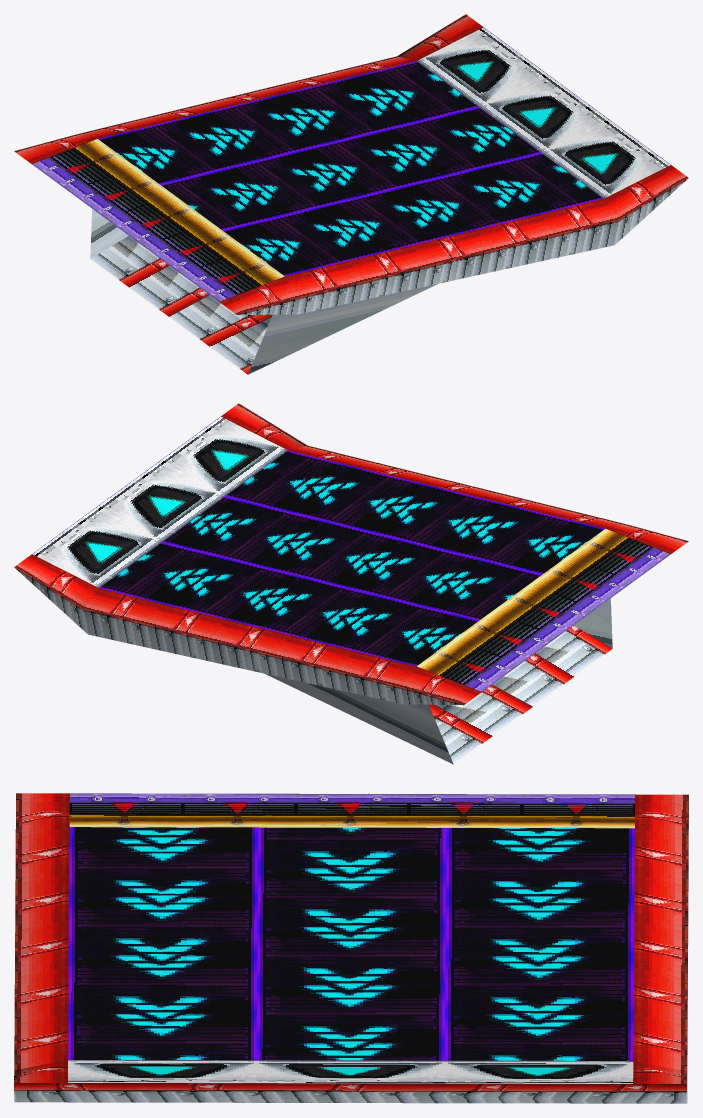
File: BigJump.obj
The picture shows the model from 3 angles, top to bottom: view 1: azimuth 30°, elevation 25°; view 2: azimuth 150°, elevation 25°; view 3: azimuth 270°, elevation 25°; orthographic projection. The views are drawn at different scales.
Size of the model in its own units: 74.03 by 19.09 by 63.7.
3 materials, 3 textured.
